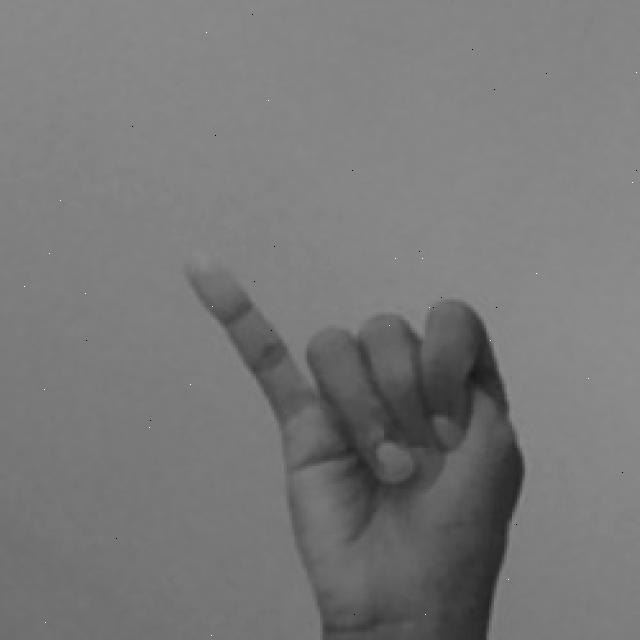I: (181, 245, 543, 640)
